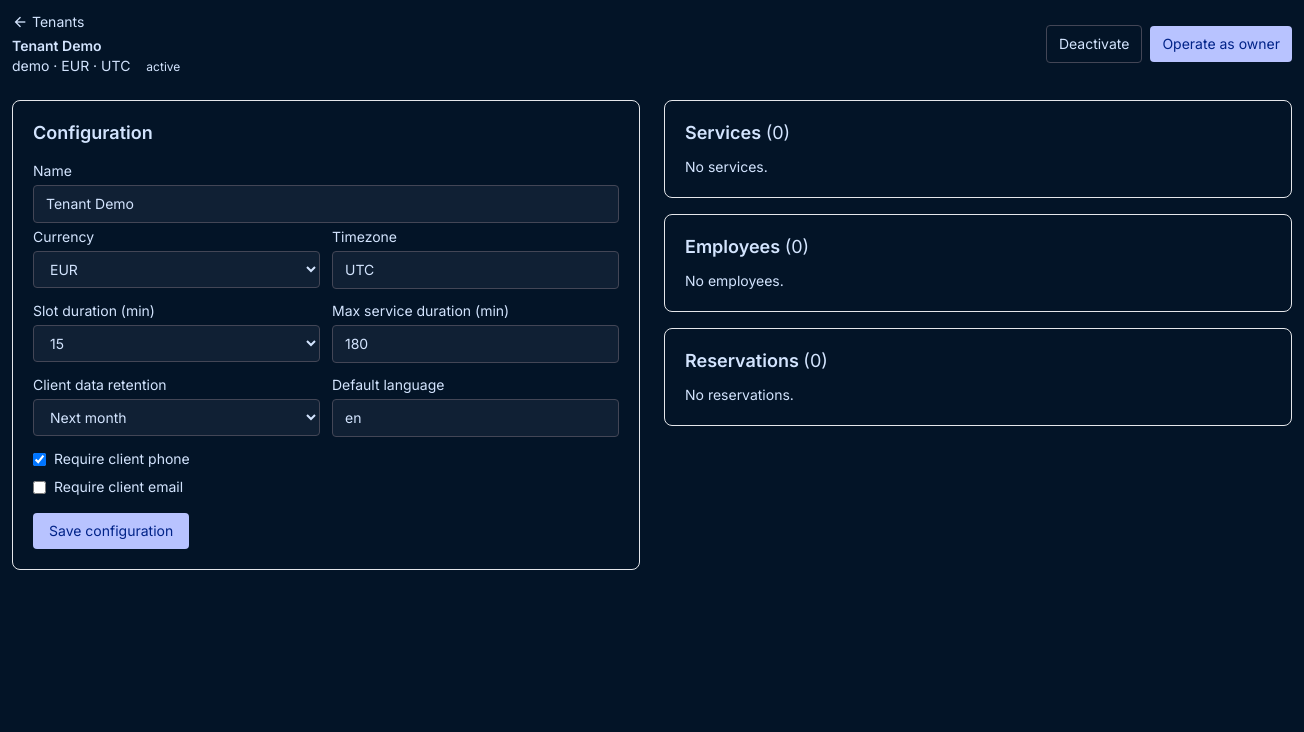
Test: AdminTenantDetail (F4.0) › Deactivate → PATCH active con isActive:false y badge a inactive
The width and height of the screenshot is (1304, 732).
Check: the field showing "Tenant Demo" is shown, box left=33, top=185, right=619, bottom=223
Click the button "Deactivate".
click(1094, 44)  # box left=1046, top=25, right=1142, bottom=63
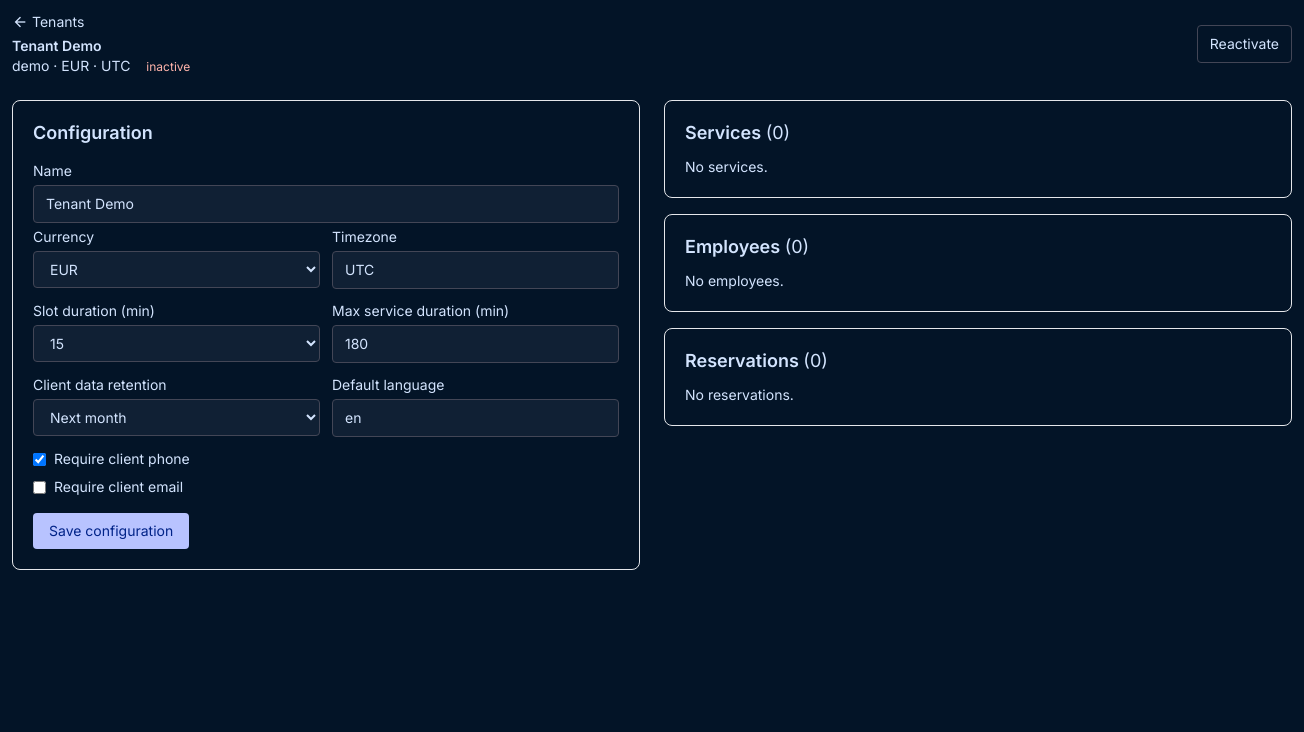
Check: the text "inactive" is shown, box left=146, top=59, right=190, bottom=74
